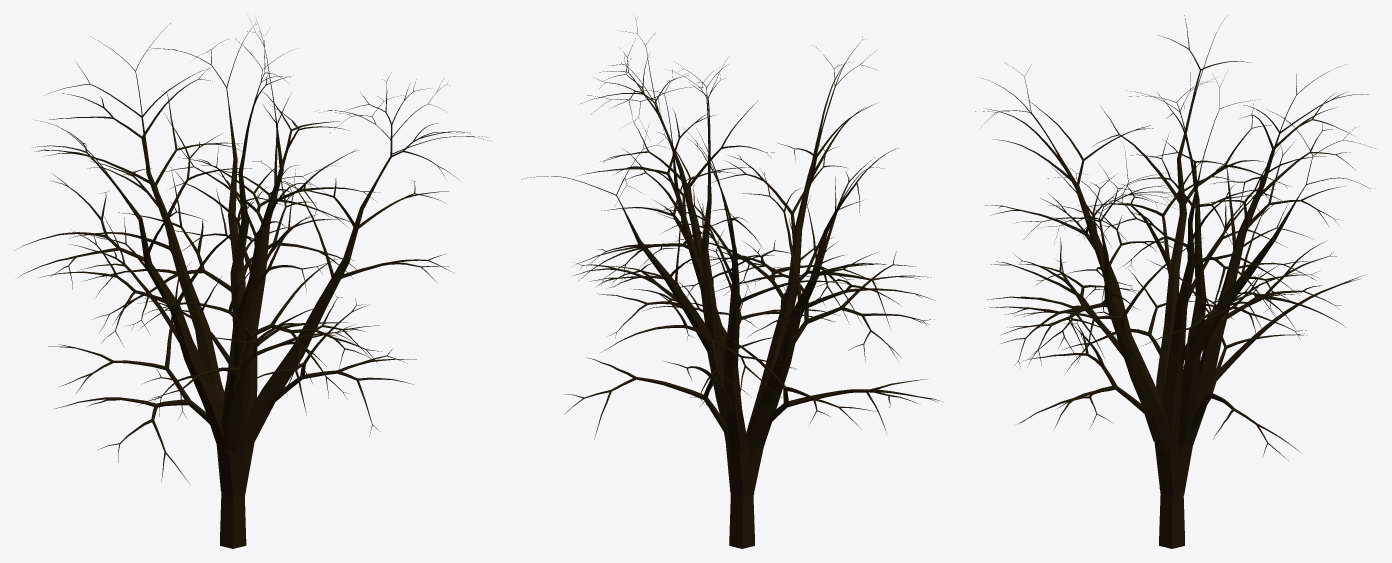
File: dead_tree.glb
3 renders of one model, left to right at view 1: azimuth 30°, elevation 25°; view 2: azimuth 150°, elevation 25°; view 3: azimuth 270°, elevation 25°, orthographic. The views are drawn at different scales.
Parts seen in each view (by area): view 1: tree-dead; view 2: tree-dead; view 3: tree-dead.
Part boxes in pixels (x1,y1,x2,y2): tree-dead: (15, 14, 491, 548); tree-dead: (521, 18, 942, 548); tree-dead: (975, 15, 1375, 548).
Bounding box in the file's own units: 9.88 × 12.05 × 8.95.
